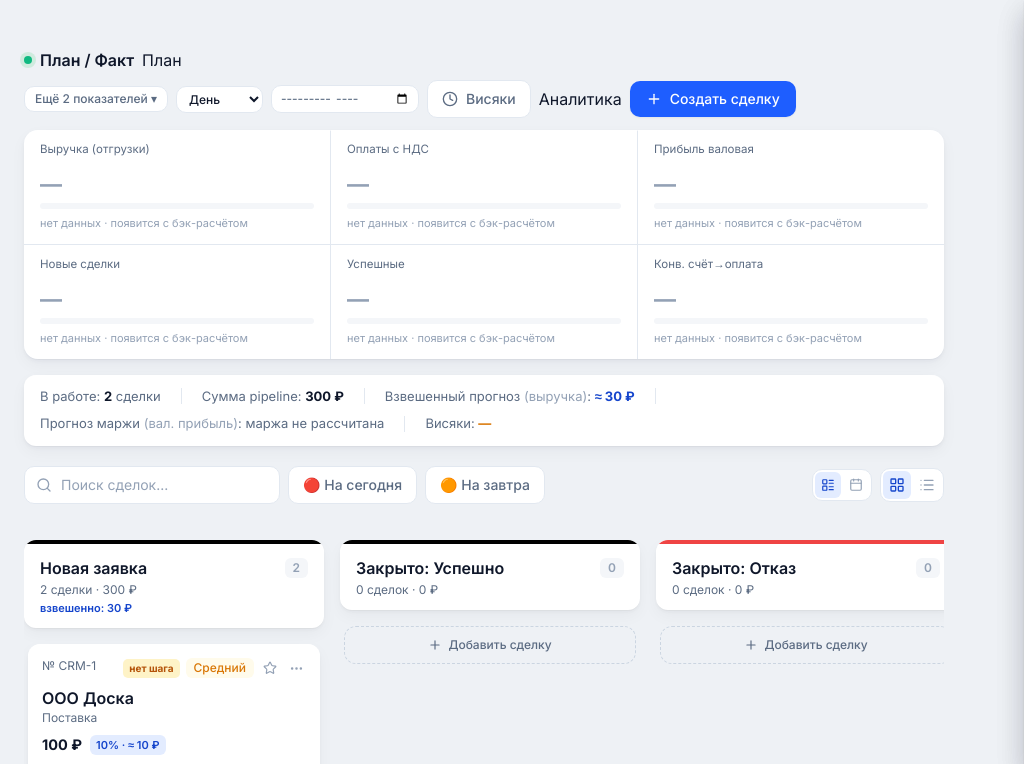
Scenario: DealsWorkspace (канбан) › кнопка «Создать сделку» открывает модалку
The image size is (1024, 764).
Click the button "Создать сделку" at coordinates (713, 99), box [630,81,796,117]
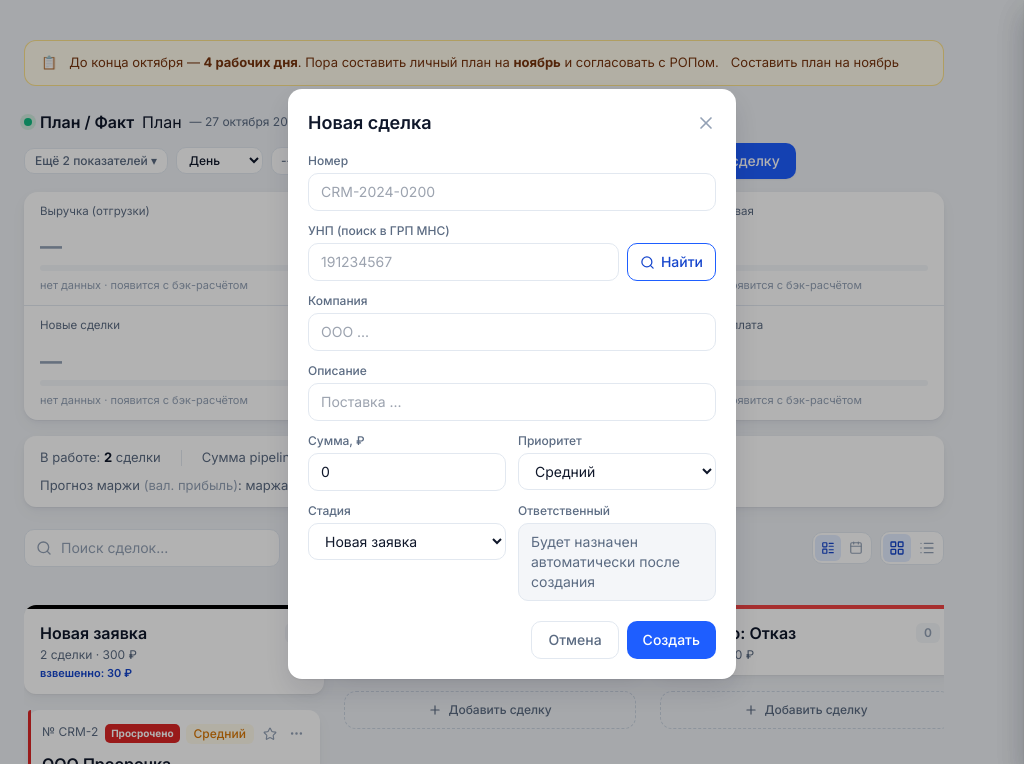
Check: the heading "Новая сделка" is shown, box [308,109,432,137]
